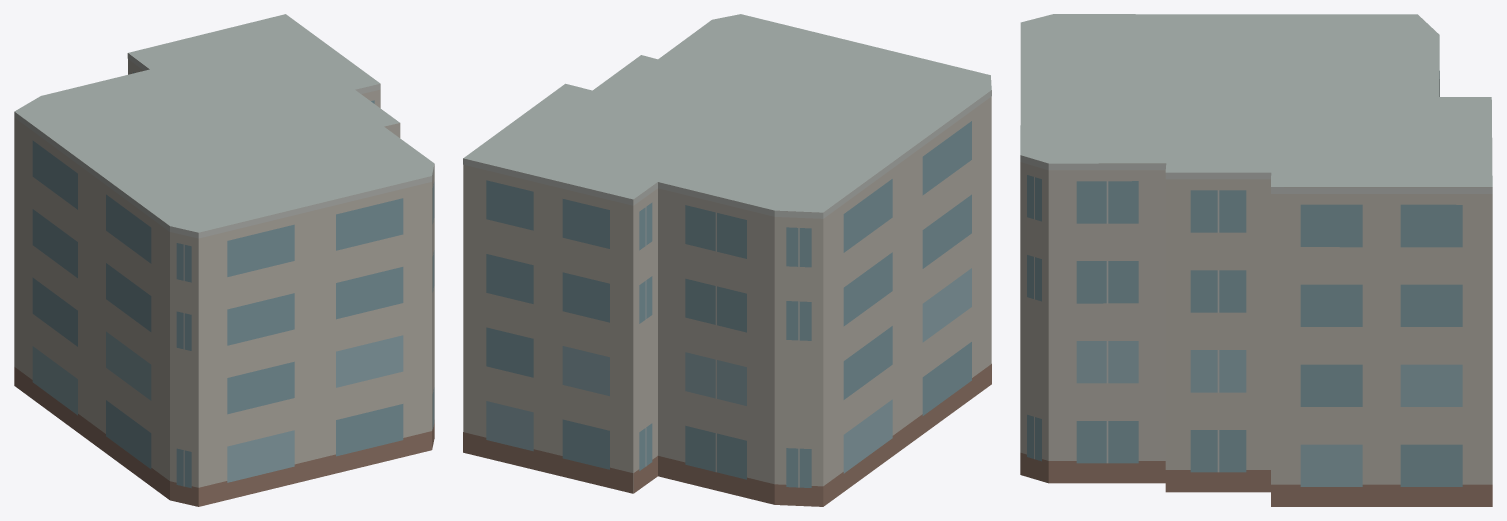
The model's file is survey-upis-32915277.glb.
The picture shows the model from 3 angles, left to right: view 1: azimuth 30°, elevation 25°; view 2: azimuth 150°, elevation 25°; view 3: azimuth 270°, elevation 25°; orthographic projection. The views are drawn at different scales.
Parts seen in each view (by area): view 1: survey-upis-32915277.tmp; view 2: survey-upis-32915277.tmp; view 3: survey-upis-32915277.tmp.
Part boxes in pixels (x1,y1,x2,y2): survey-upis-32915277.tmp: (14, 14, 434, 506); survey-upis-32915277.tmp: (463, 14, 991, 506); survey-upis-32915277.tmp: (1020, 14, 1492, 506).
Bounding box in the file's own units: 13.25 × 11.4 × 15.27.
